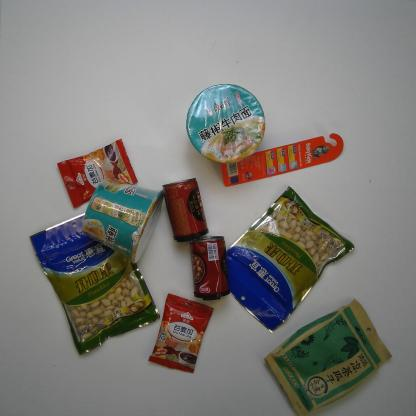Canned Food: (162, 177, 209, 243), (189, 235, 231, 302)
Dried Food: (263, 298, 393, 416)
Dried Fruit: (225, 185, 356, 334), (29, 212, 160, 356)
Instant Drink: (56, 138, 138, 208), (148, 293, 214, 374)
Instant Noodles: (81, 179, 164, 264), (185, 84, 266, 164)
Personal Hygiene: (221, 133, 344, 187)
